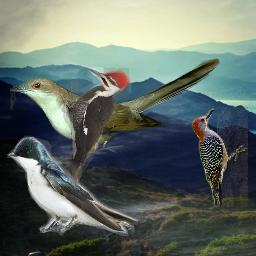Cuckoo: (10, 57, 220, 153)
Swallow: (7, 135, 138, 236)
Woodpecker: (56, 67, 131, 190), (189, 107, 248, 207)
